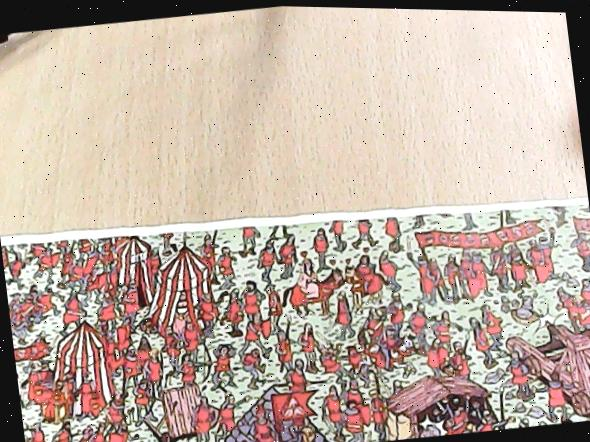waldo: (438, 354, 458, 379)
